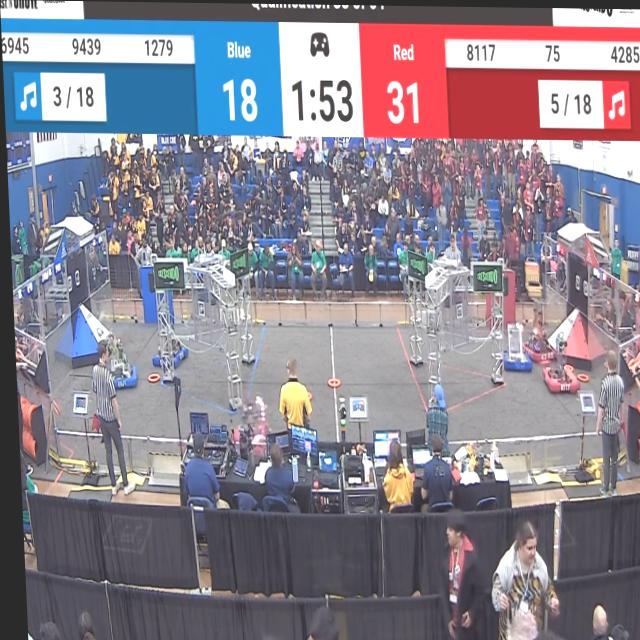Robot: (533, 327, 577, 396), (98, 326, 136, 392), (230, 385, 268, 449), (517, 291, 550, 363), (147, 312, 185, 371), (498, 313, 529, 376)
